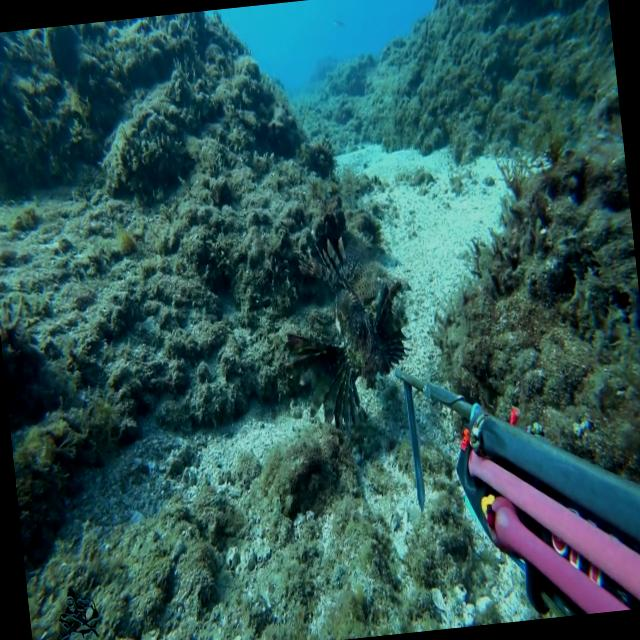Aslan Baligi: (269, 227, 425, 440)
